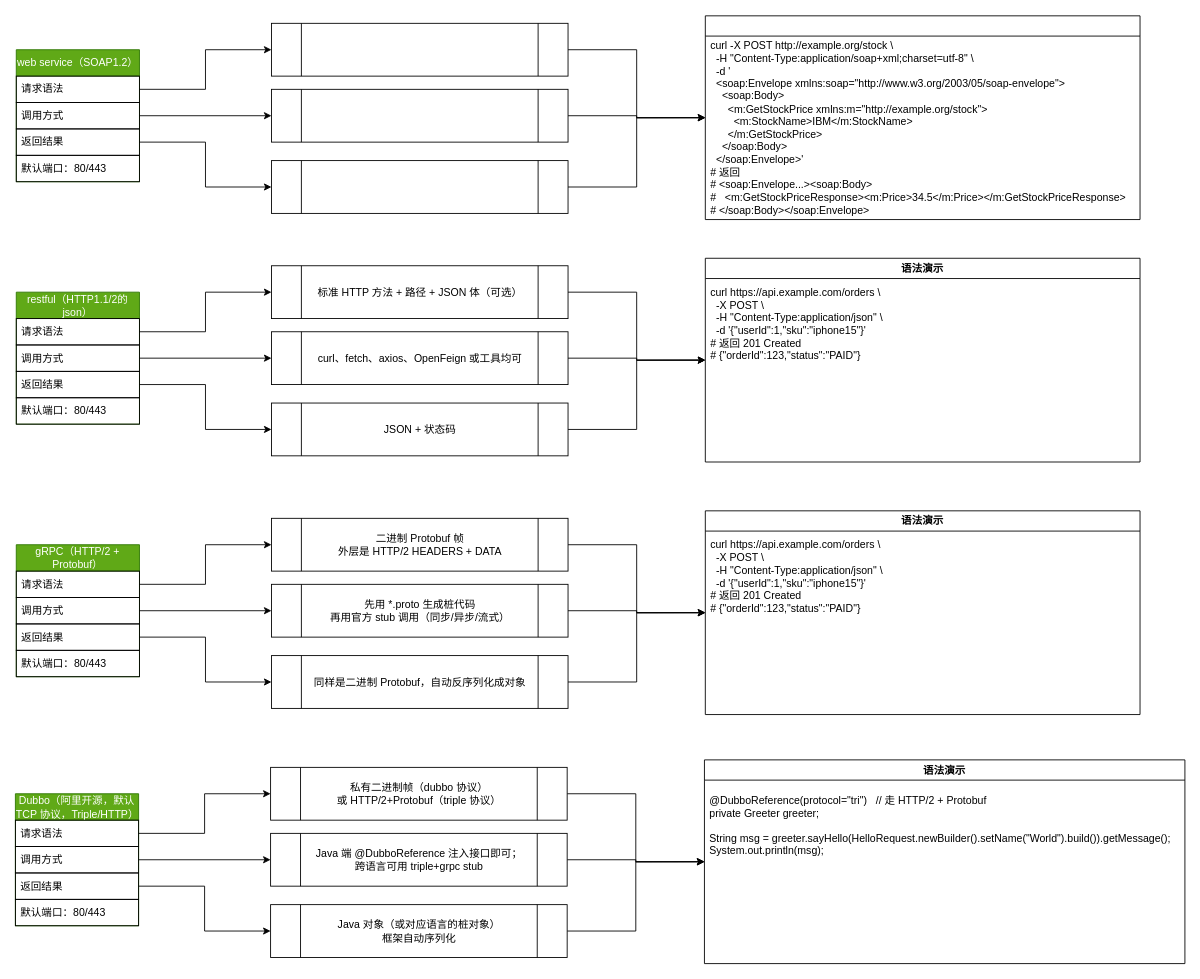
Image size: 1200x979. Some labels were removed from this diagram. The shapes that lost their labels are listed below. From the top down, each one's box as (x1, y1, x2, y2) in pixels, then its label:
(271, 22, 568, 76): HTTP POST + XML 信封 必须带 Content-Type:application/soap+xml
(271, 88, 568, 142): 任何能发 HTTP 的工具/语言 把 XML 字符串塞进 POST 体即可
(704, 15, 1140, 220): 语法演示【SOAP Body里面可以是任意形式】
(271, 160, 568, 213): 同样是一段 SOAP XML 业务数据在 soap:Body 里
